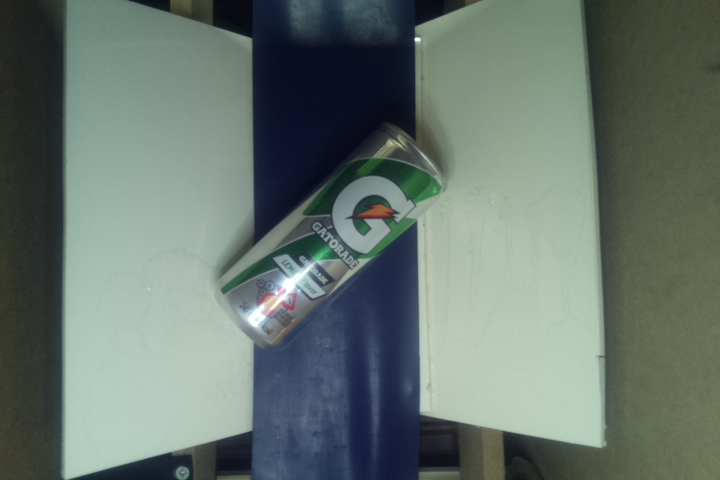can: (208, 120, 446, 347)
